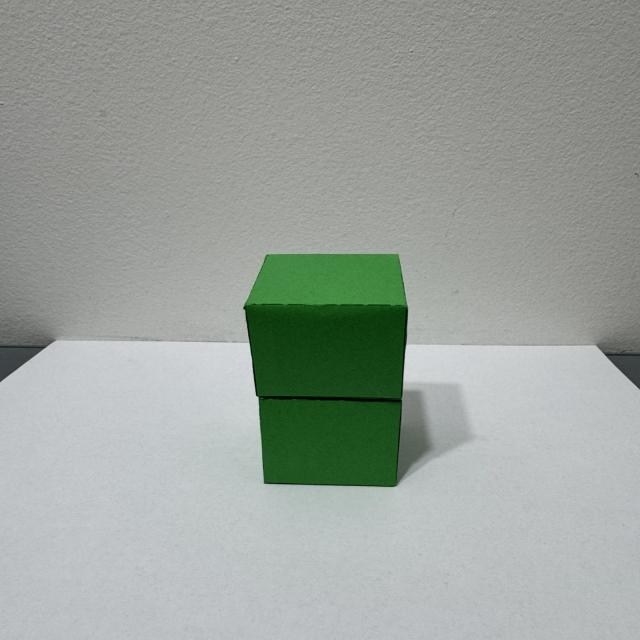green_cube: (237, 233, 444, 512)
